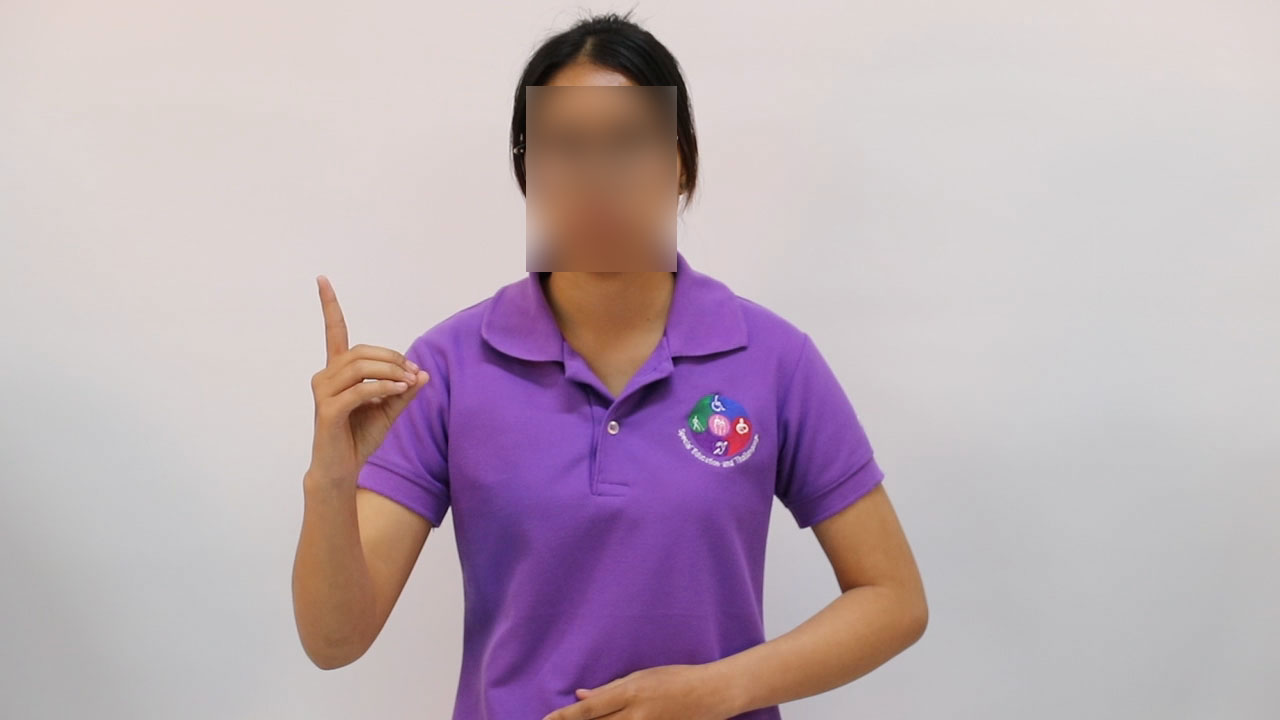dor: (298, 268, 438, 478)
